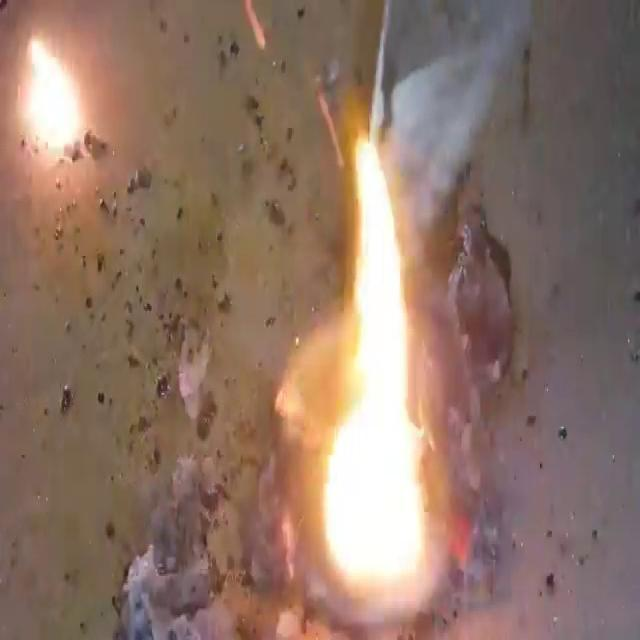Fire: (317, 126, 432, 604), (17, 29, 135, 225)
